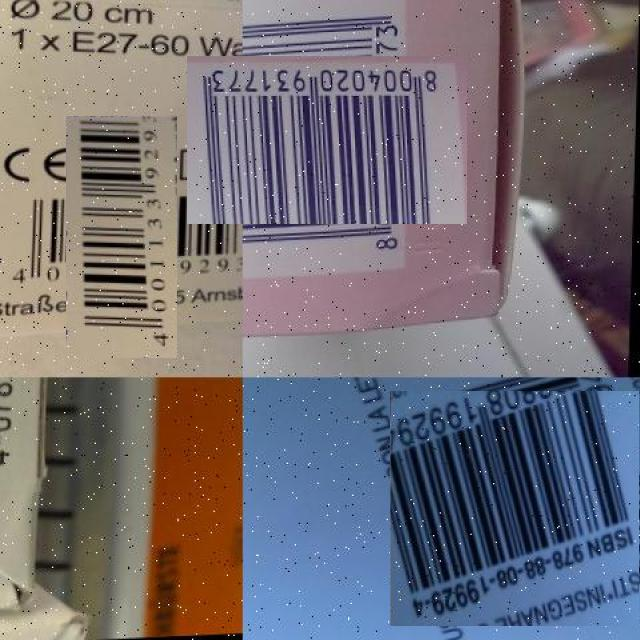Barcode: (397, 383, 640, 633), (215, 28, 440, 252), (33, 148, 210, 325)
